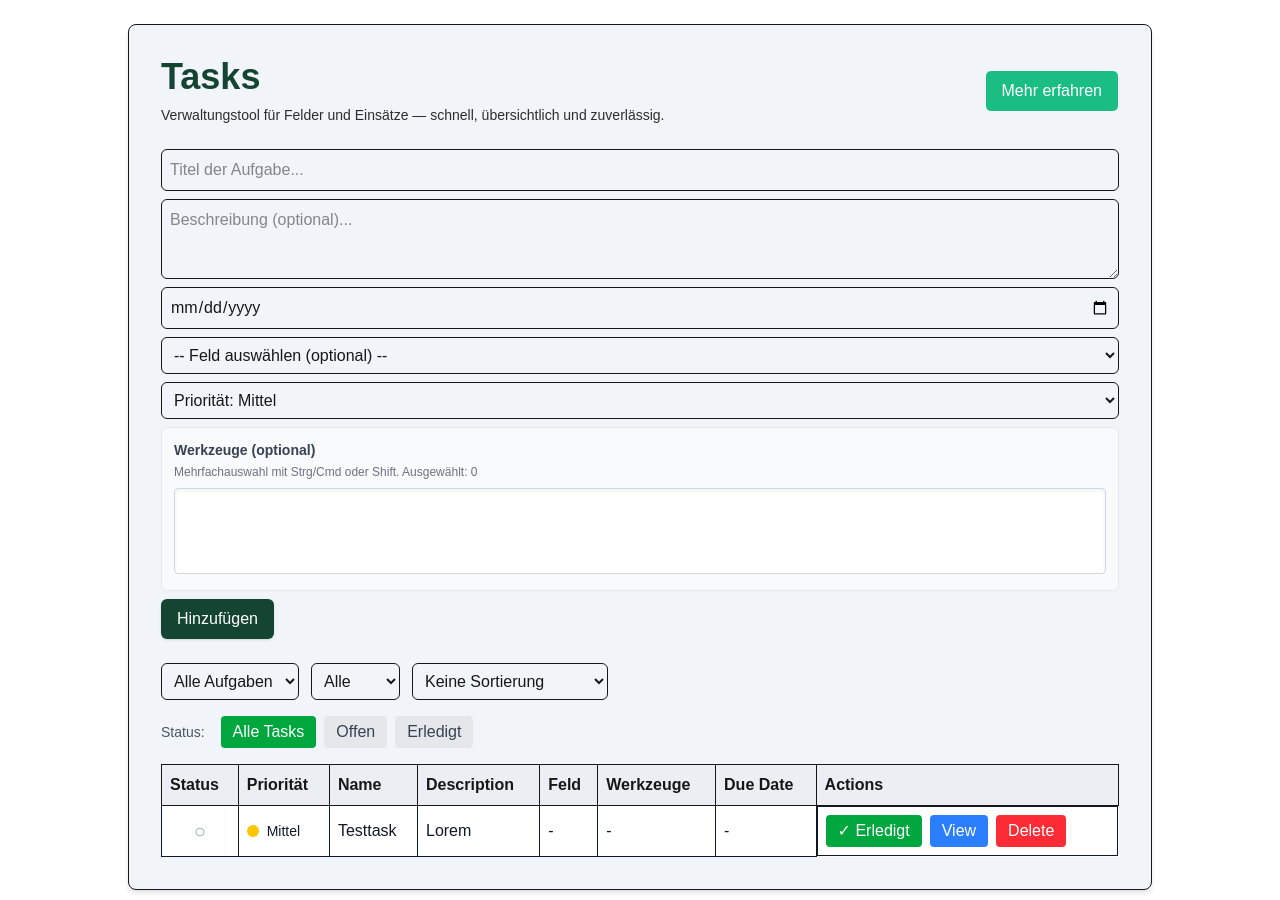
Scenario: Tasks Component - Comprehensive Tests › shows the delete confirmation modal when clicking Delete
expect the text "Testtask" is shown: met, box [329,806,418,856]
Click the button "Delete": (1031, 831) [996,815,1066,847]
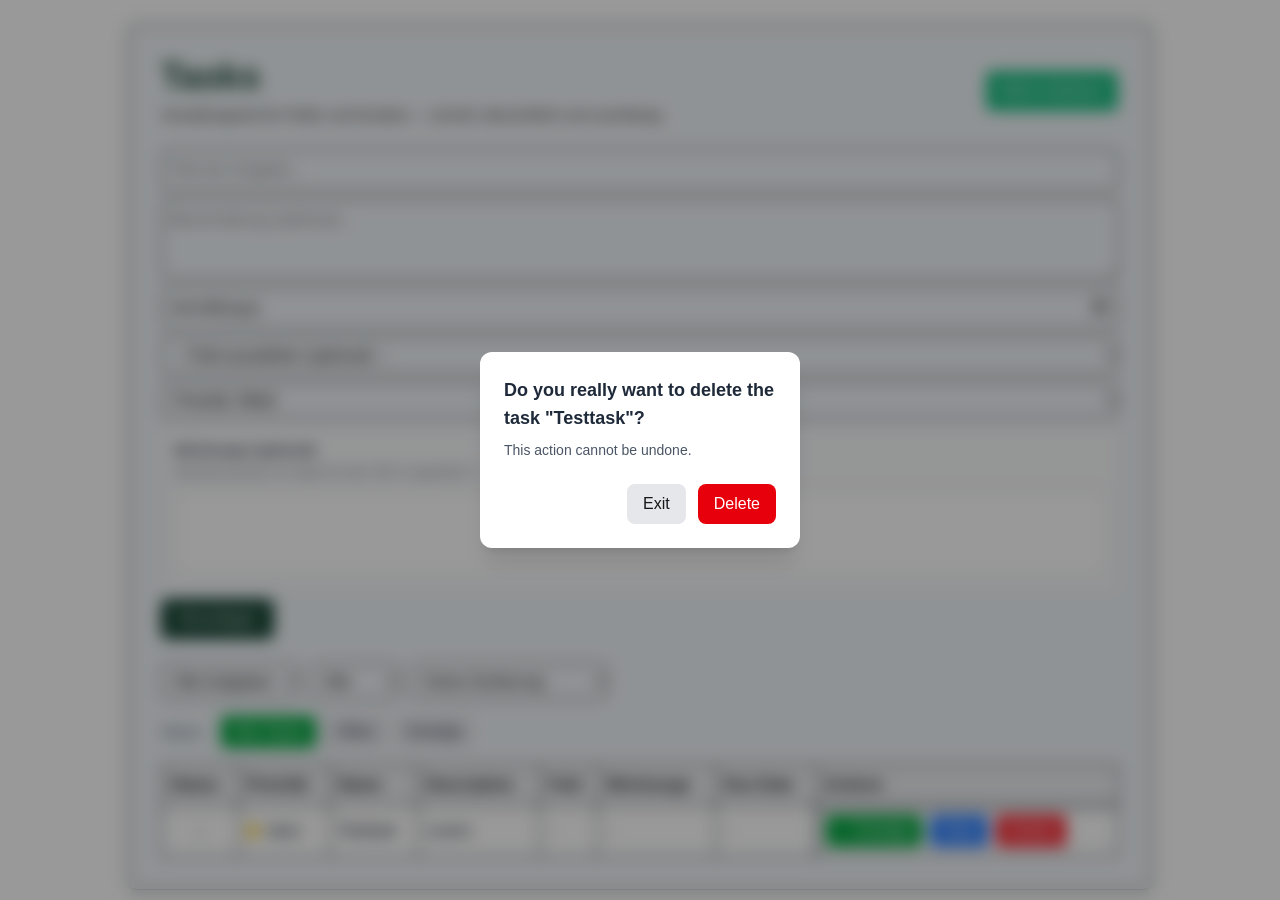
expect the heading "Do you really want to delete the task \"Testtask\"?" is shown: met, box [504,376,776,432]
